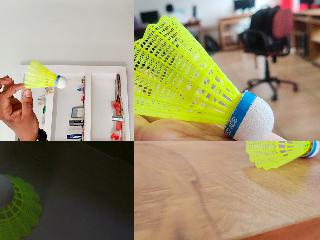shuttlecock: (134, 15, 274, 140), (0, 173, 42, 239), (244, 141, 319, 171), (23, 60, 68, 92)
